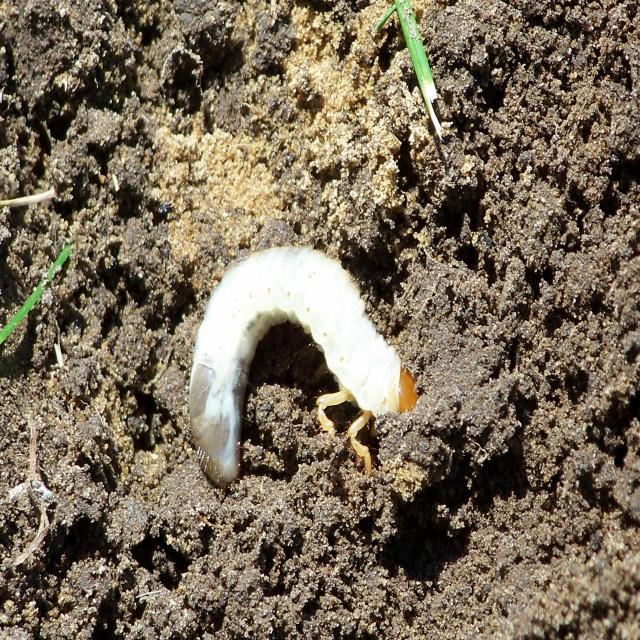Grub-Adult-: (167, 242, 441, 526)
